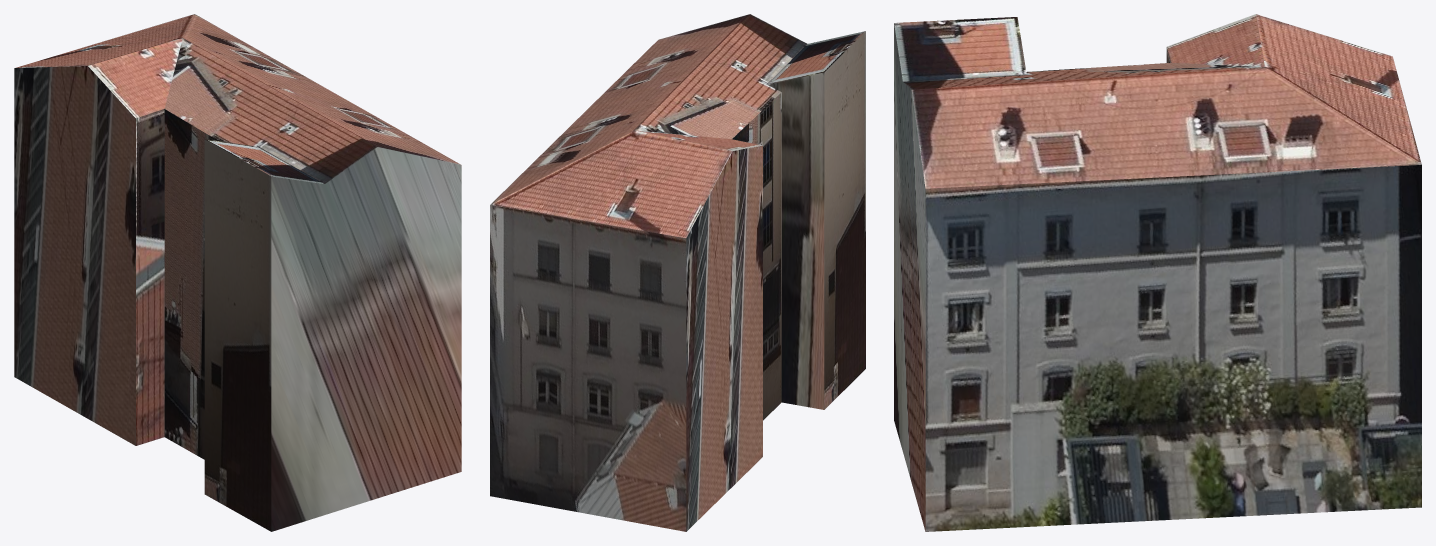
The picture shows the model from 3 angles, left to right: view 1: azimuth 30°, elevation 25°; view 2: azimuth 150°, elevation 25°; view 3: azimuth 270°, elevation 25°; orthographic projection. The views are drawn at different scales.
Visible parts, largest first — view 1: Z_UP; view 2: Z_UP; view 3: Z_UP.
Part boxes in pixels (left/top/right/bottom): Z_UP: left=14, top=14, right=461, bottom=531; Z_UP: left=490, top=14, right=865, bottom=531; Z_UP: left=894, top=14, right=1421, bottom=531.
Size of the model in its own units: 12.58 by 17.93 by 21.57.
2 materials, 1 textured.
